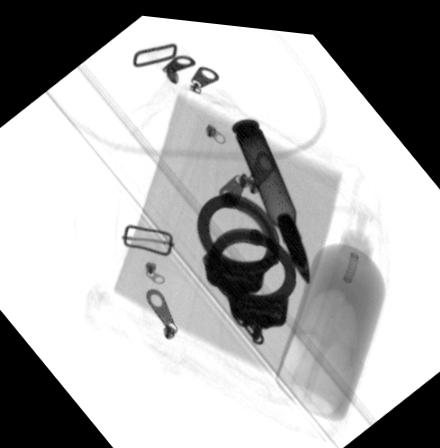Bullet: (228, 107, 311, 278)
HandCuffs: (194, 186, 298, 343)
